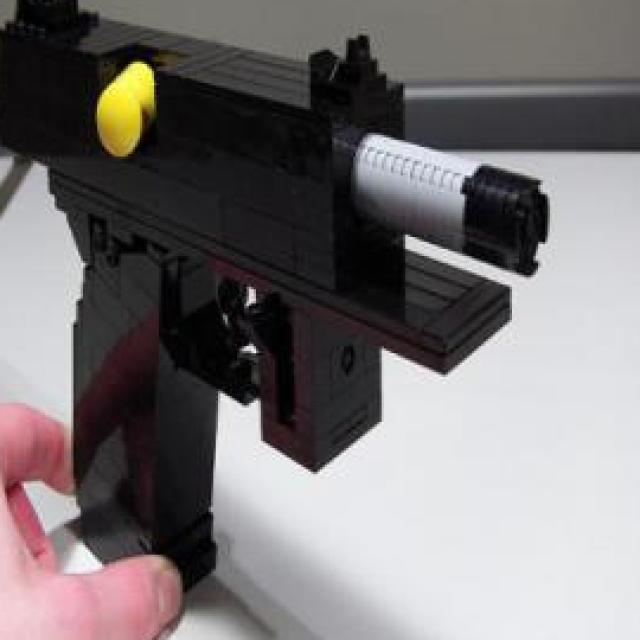pistol: (0, 0, 552, 595)
